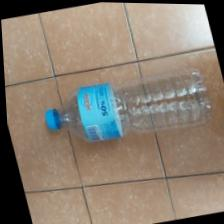plastic: (22, 54, 224, 162)
